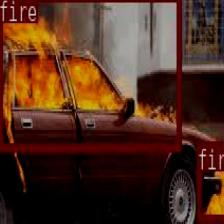fire: (0, 0, 180, 149), (196, 140, 224, 220)
